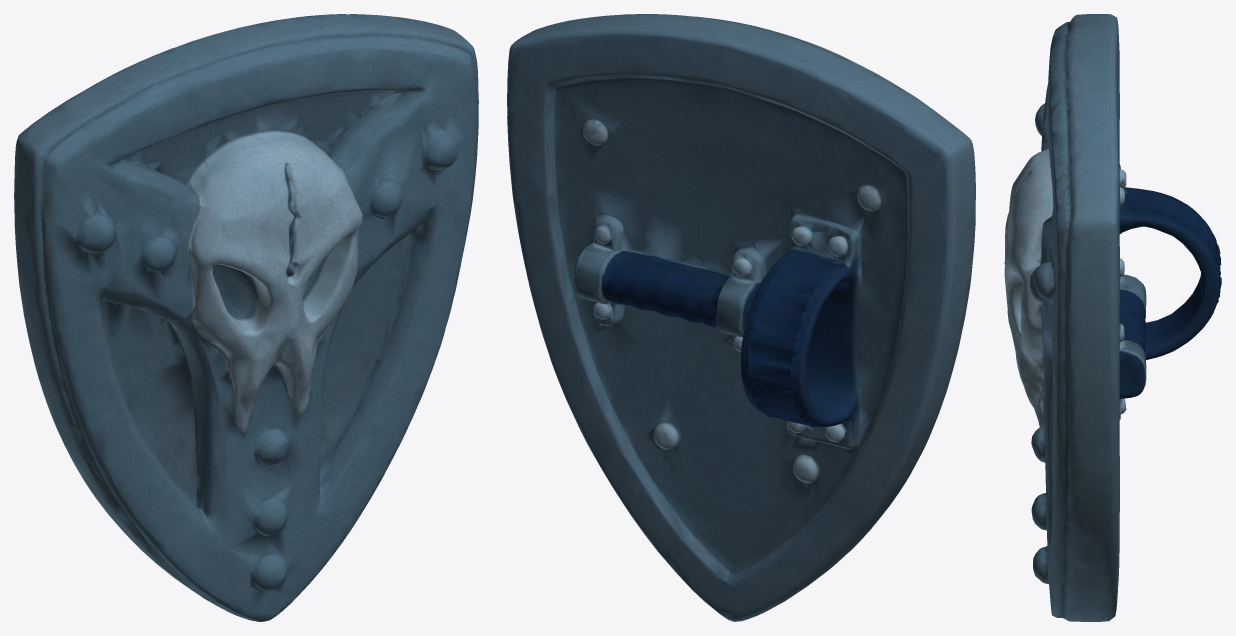
The model's file is shield.glb.
The picture shows the model from 3 angles, left to right: view 1: azimuth 30°, elevation 25°; view 2: azimuth 150°, elevation 25°; view 3: azimuth 270°, elevation 25°; orthographic projection. The views are drawn at different scales.
Size of the model in its own units: 1.53 by 1.9 by 0.6723.
Materials: 1 (1 with a texture image).
